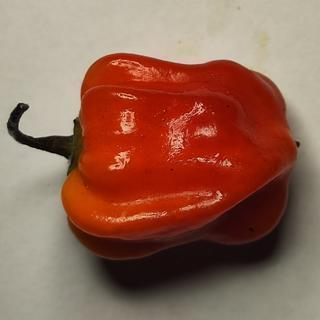Grade-A: (57, 49, 301, 262)
